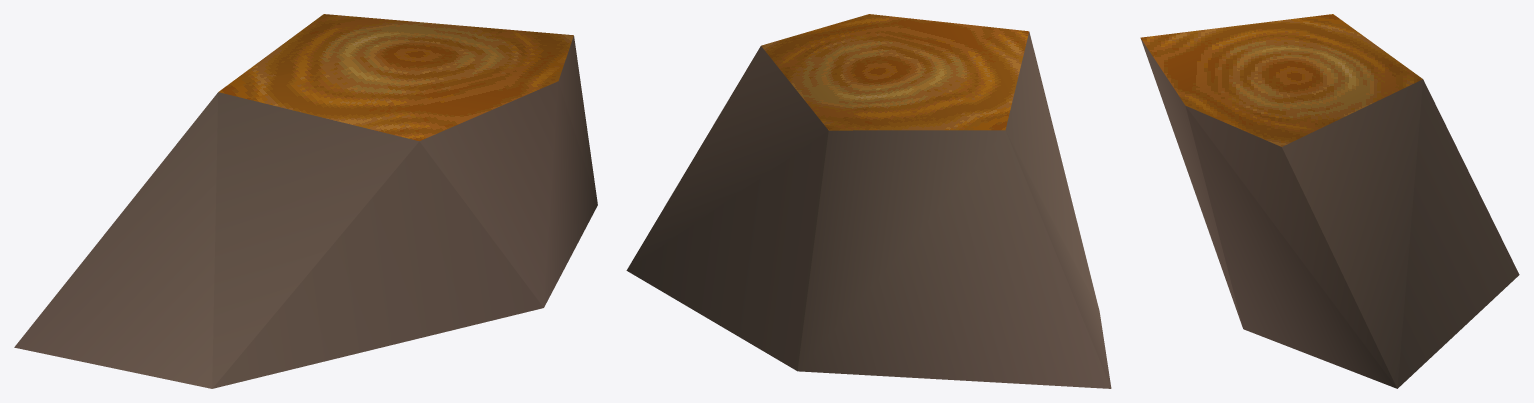
The picture shows the model from 3 angles, left to right: view 1: azimuth 30°, elevation 25°; view 2: azimuth 150°, elevation 25°; view 3: azimuth 270°, elevation 25°; orthographic projection. The views are drawn at different scales.
Parts seen in each view (by area): view 1: model; view 2: model; view 3: model.
Boxes of the visible parts, x1=… form: model: x1=14, y1=14, x2=597, y2=388; model: x1=626, y1=14, x2=1111, y2=388; model: x1=1140, y1=14, x2=1519, y2=388.
Size of the model in its own units: 0.6875 by 0.2891 by 0.4609.
Materials: 2 (1 with a texture image).
